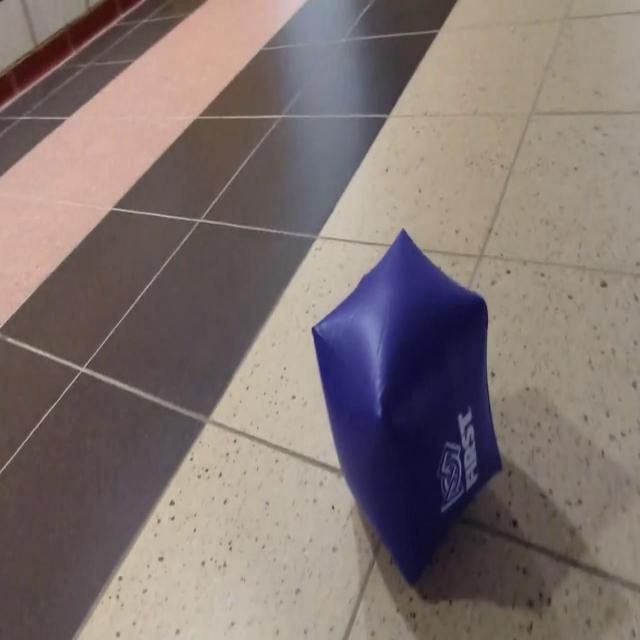frc_cube: (313, 222, 505, 587)
